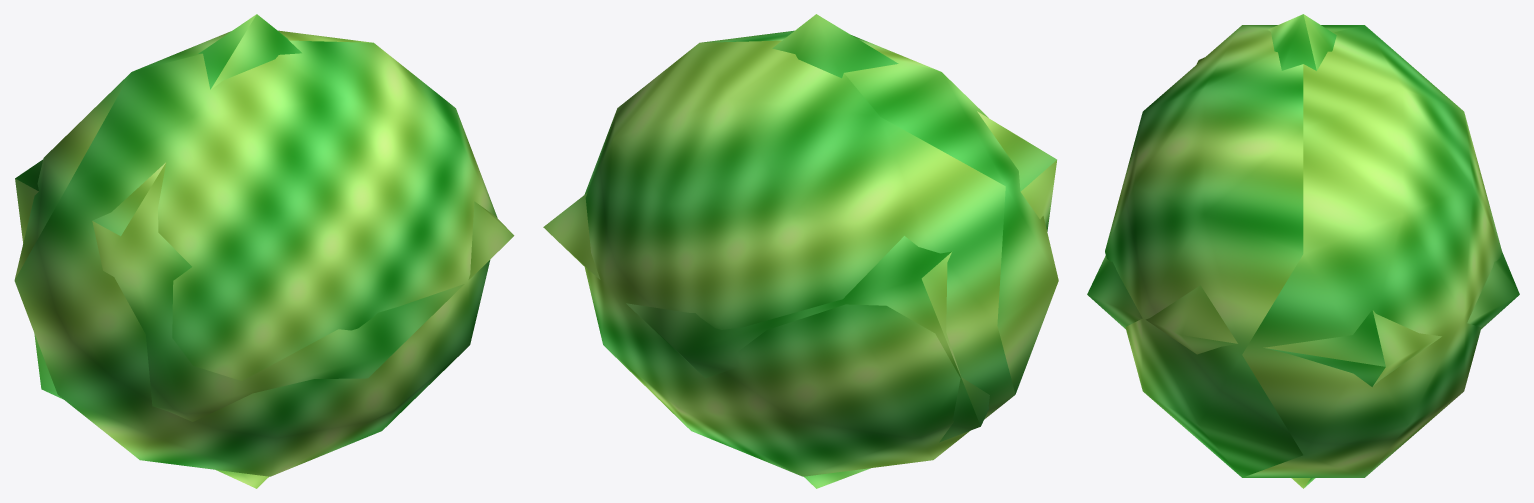
Rendered from cell_food_algae.fbx.
3 views of the same model, side by side, from view 1: azimuth 30°, elevation 25°; view 2: azimuth 150°, elevation 25°; view 3: azimuth 270°, elevation 25° (orthographic).
Visible parts, largest first — view 1: cell_food_algae_VIS, cell_food_algae_COL; view 2: cell_food_algae_VIS, cell_food_algae_COL; view 3: cell_food_algae_VIS, cell_food_algae_COL.
Boxes of the visible parts, box(x1,y1,x2,y2) form: cell_food_algae_VIS: box(14, 30, 497, 476); cell_food_algae_COL: box(15, 14, 514, 488); cell_food_algae_VIS: box(584, 30, 1058, 476); cell_food_algae_COL: box(543, 14, 1056, 488); cell_food_algae_VIS: box(1105, 25, 1501, 477); cell_food_algae_COL: box(1087, 14, 1519, 488).
Bounding box in the file's own units: 48.24 × 49.34 × 40.76.
